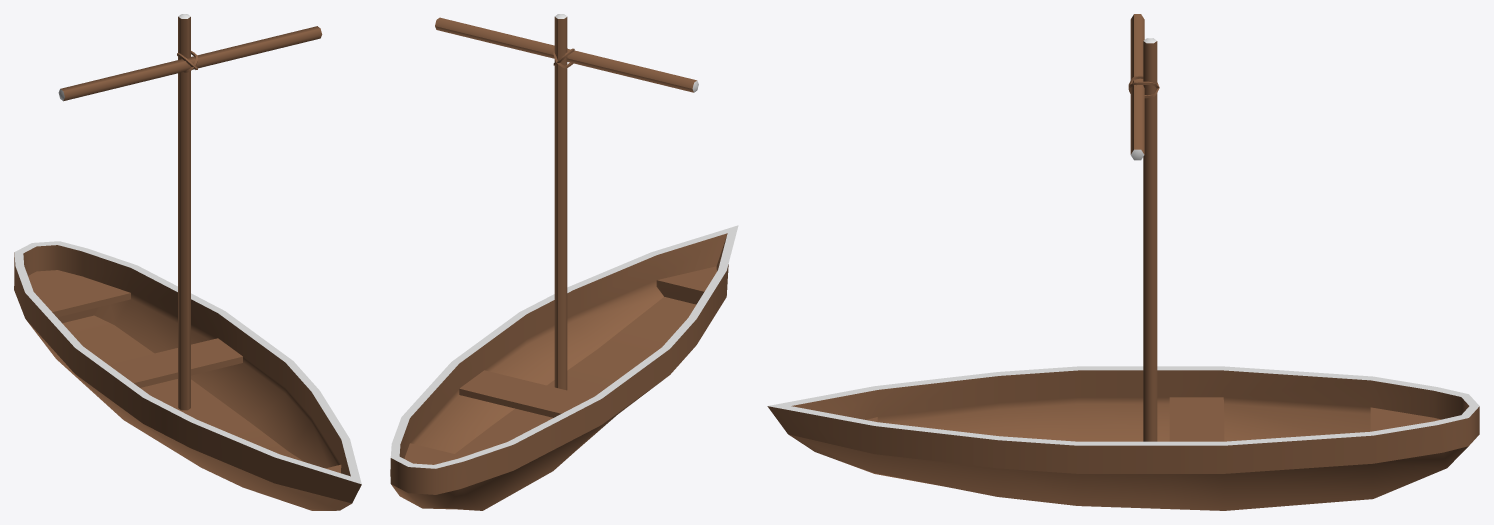
The model's file is Sloop.fbx.
3 renders of one model, left to right at view 1: azimuth 30°, elevation 25°; view 2: azimuth 150°, elevation 25°; view 3: azimuth 270°, elevation 25°, orthographic. The views are drawn at different scales.
Parts seen in each view (by area): view 1: Sloop; view 2: Sloop; view 3: Sloop.
Boxes of the visible parts, x1,y1,x2,y2 form: Sloop: (14,14,361,510); Sloop: (390,14,738,510); Sloop: (767,14,1479,510).
Bounding box in the file's own units: 521 × 819 × 1140.
